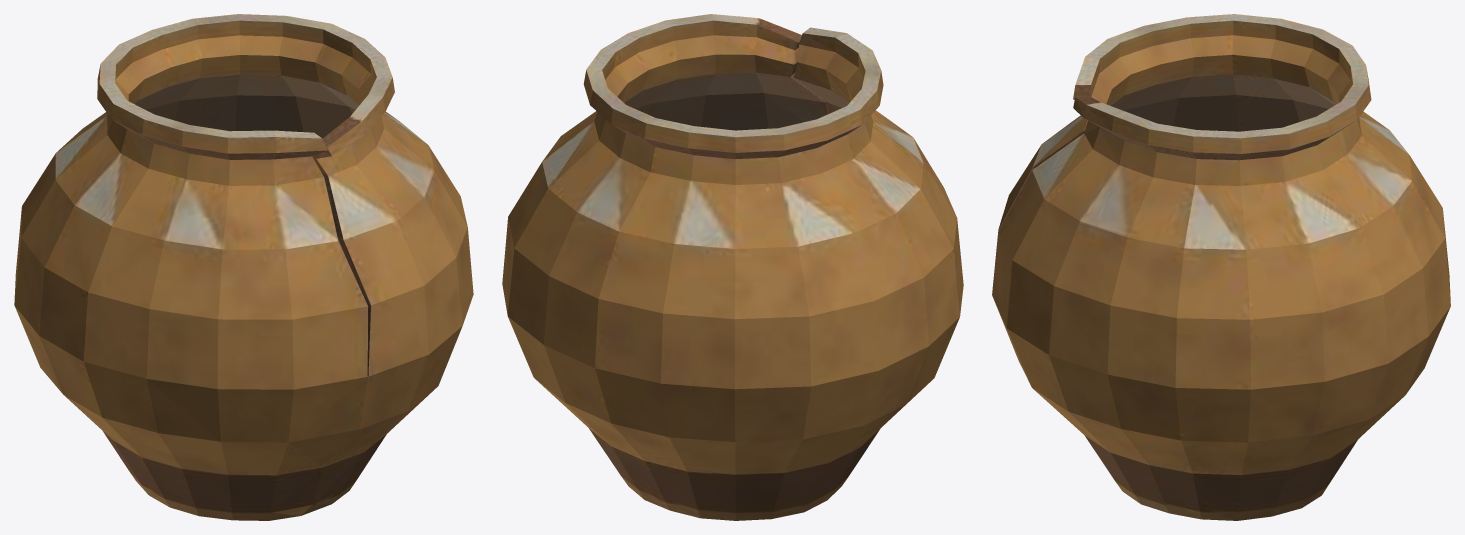
The model's file is BR33_cracked_pots_v1.glb.
3 renders of one model, left to right at view 1: azimuth 30°, elevation 25°; view 2: azimuth 150°, elevation 25°; view 3: azimuth 270°, elevation 25°, orthographic.
Visible parts, largest first — view 1: Cracked Water Pot; view 2: Cracked Water Pot; view 3: Cracked Water Pot.
Part boxes in pixels (left/top/right/bottom): Cracked Water Pot: left=14, top=14, right=473, bottom=520; Cracked Water Pot: left=502, top=14, right=963, bottom=520; Cracked Water Pot: left=992, top=14, right=1450, bottom=520.
Size of the model in its own units: 0.4 by 0.3823 by 0.3993.
Materials: 4 (4 with a texture image).
